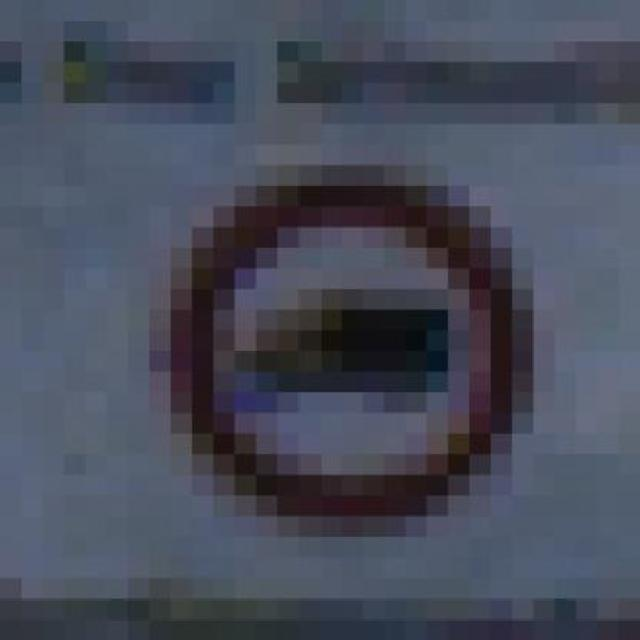Truck traffic is prohibited: (138, 123, 544, 557)
